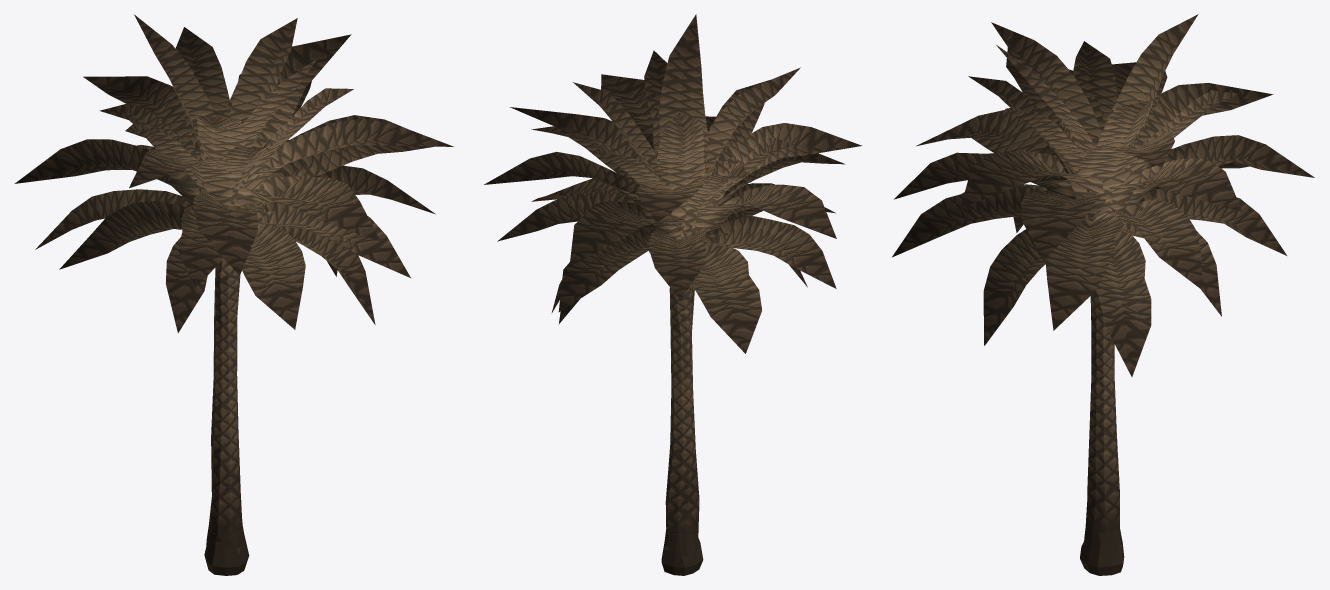
Rendered from SM_Env_Tree_Palm_05.fbx.
The picture shows the model from 3 angles, left to right: view 1: azimuth 30°, elevation 25°; view 2: azimuth 150°, elevation 25°; view 3: azimuth 270°, elevation 25°; orthographic projection. The views are drawn at different scales.
Parts seen in each view (by area): view 1: SM_Env_Tree_Palm_05_LOD0; view 2: SM_Env_Tree_Palm_05_LOD0; view 3: SM_Env_Tree_Palm_05_LOD0.
Boxes of the visible parts, left/top/right/bottom form: SM_Env_Tree_Palm_05_LOD0: left=14, top=14, right=453, bottom=575; SM_Env_Tree_Palm_05_LOD0: left=484, top=14, right=862, bottom=575; SM_Env_Tree_Palm_05_LOD0: left=892, top=14, right=1314, bottom=575.
Size of what is drawn, in the model's own units: 1302 by 1790 by 1259.
